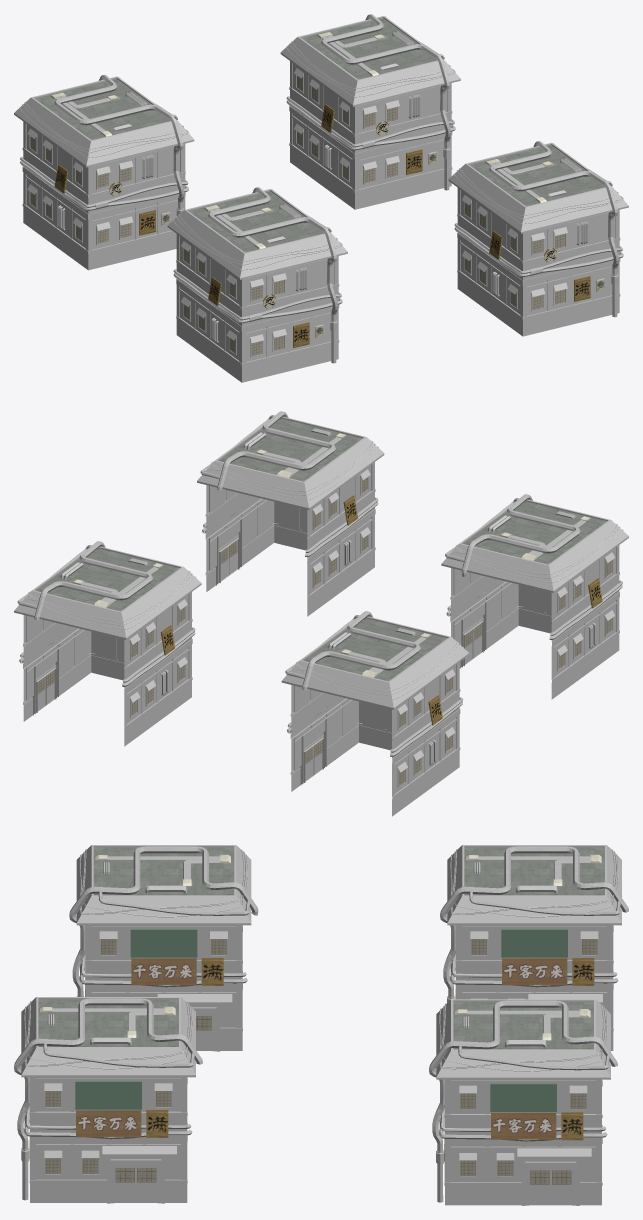
File: MERGED_SM_ENV_KNVLLG_CommonBuilding_A_1.mo.fbx
The picture shows the model from 3 angles, top to bottom: view 1: azimuth 30°, elevation 25°; view 2: azimuth 150°, elevation 25°; view 3: azimuth 270°, elevation 25°; orthographic projection. The views are drawn at different scales.
Visible parts, largest first — view 1: MERGED_SM_ENV_KNVLLG_CommonBuilding_A_1.mo; view 2: MERGED_SM_ENV_KNVLLG_CommonBuilding_A_1.mo; view 3: MERGED_SM_ENV_KNVLLG_CommonBuilding_A_1.mo.
Part boxes in pixels (x1=…): MERGED_SM_ENV_KNVLLG_CommonBuilding_A_1.mo: x1=14, y1=14, x2=628, y2=382; MERGED_SM_ENV_KNVLLG_CommonBuilding_A_1.mo: x1=14, y1=411, x2=628, y2=816; MERGED_SM_ENV_KNVLLG_CommonBuilding_A_1.mo: x1=14, y1=845, x2=628, y2=1205.
Size of the model in its own units: 46.6 by 15.73 by 55.58.
